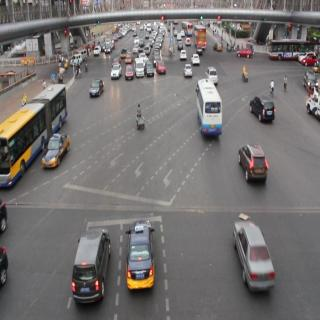BigCar: (2, 80, 65, 166), (192, 80, 227, 143), (265, 34, 318, 61)
Car: (228, 216, 279, 292), (72, 222, 108, 298), (127, 213, 154, 290), (235, 143, 274, 195), (45, 129, 72, 171), (251, 92, 275, 127), (87, 73, 104, 106), (201, 64, 220, 85), (109, 62, 122, 84), (157, 57, 167, 79), (184, 59, 194, 80), (146, 60, 154, 82), (126, 60, 134, 82), (136, 56, 142, 82)
